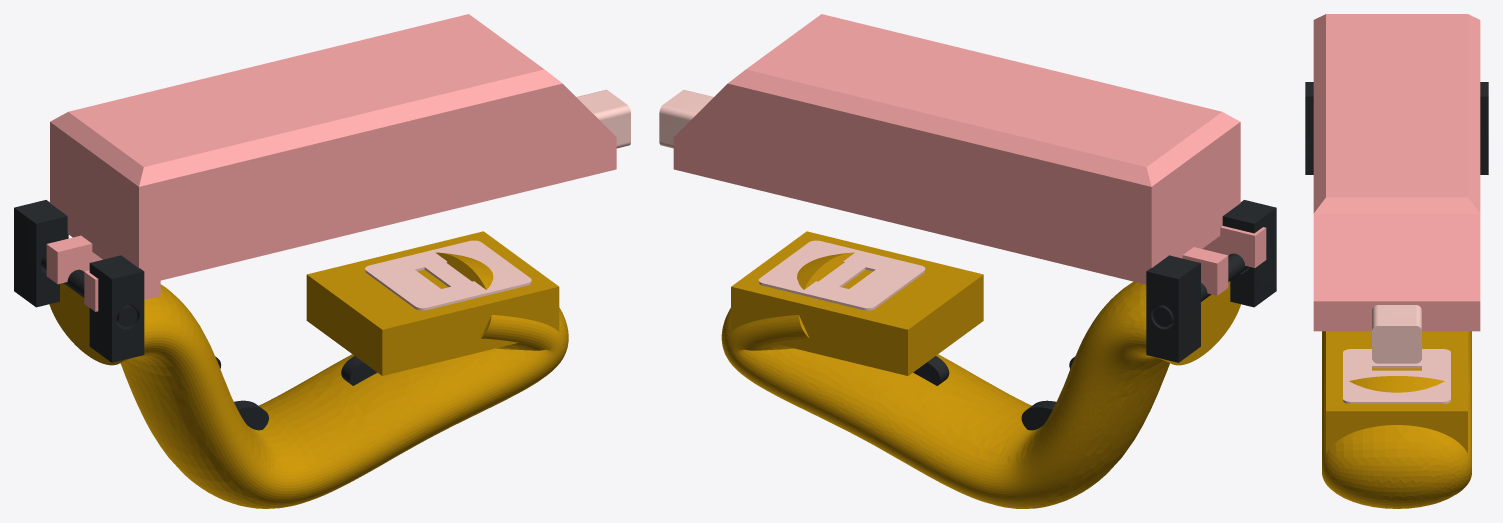
The model's file is Handtools_Stapler__0009.glb.
3 renders of one model, left to right at view 1: azimuth 30°, elevation 25°; view 2: azimuth 150°, elevation 25°; view 3: azimuth 270°, elevation 25°, orthographic. The views are drawn at different scales.
Parts seen in each view (by area): view 1: top_arm::arm_shell, base::base_grip, base::hinge_knuckles, base::anvil_plate, top_arm::carrier_rail, top_arm::hinge_pin, base::grip_ridge_2; view 2: top_arm::arm_shell, base::base_grip, base::hinge_knuckles, base::anvil_plate, top_arm::carrier_rail, top_arm::hinge_pin, base::grip_ridge_2; view 3: top_arm::arm_shell, base::base_grip, base::anvil_plate, top_arm::carrier_rail, base::hinge_knuckles.
Part boxes in pixels (x1=…): top_arm::arm_shell: x1=46, y1=14, x2=616, y2=311; base::base_grip: x1=49, y1=231, x2=568, y2=508; base::hinge_knuckles: x1=14, y1=200, x2=144, y2=362; base::anvil_plate: x1=365, y1=240, x2=531, y2=310; top_arm::carrier_rail: x1=576, y1=89, x2=630, y2=148; top_arm::hinge_pin: x1=41, y1=253, x2=137, y2=326; base::grip_ridge_2: x1=234, y1=400, x2=268, y2=430; top_arm::arm_shell: x1=673, y1=14, x2=1266, y2=295; base::base_grip: x1=721, y1=231, x2=1240, y2=508; base::hinge_knuckles: x1=1146, y1=200, x2=1276, y2=362; base::anvil_plate: x1=758, y1=240, x2=925, y2=310; top_arm::carrier_rail: x1=659, y1=90, x2=713, y2=148; top_arm::hinge_pin: x1=1153, y1=253, x2=1248, y2=326; base::grip_ridge_2: x1=1021, y1=400, x2=1056, y2=430; top_arm::arm_shell: x1=1313, y1=14, x2=1480, y2=331; base::base_grip: x1=1322, y1=331, x2=1471, y2=508; base::anvil_plate: x1=1343, y1=349, x2=1450, y2=403; top_arm::carrier_rail: x1=1372, y1=305, x2=1421, y2=363; base::hinge_knuckles: x1=1305, y1=82, x2=1488, y2=174.
Size of the model in its own units: 0.145 by 0.0981 by 0.0441.
Materials: 4 (2 with a texture image).
